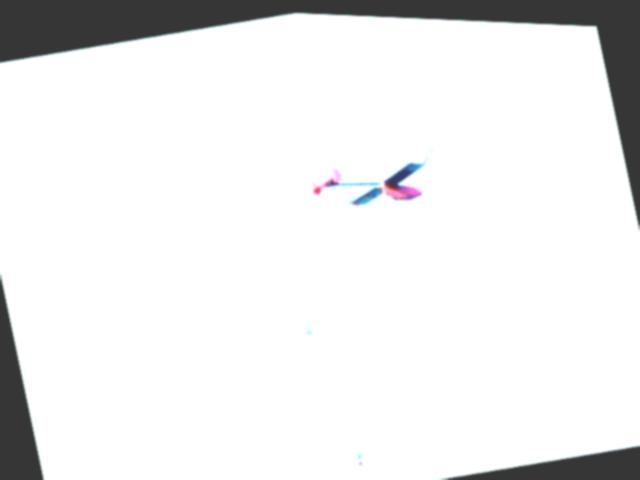uav: (303, 131, 452, 227)
